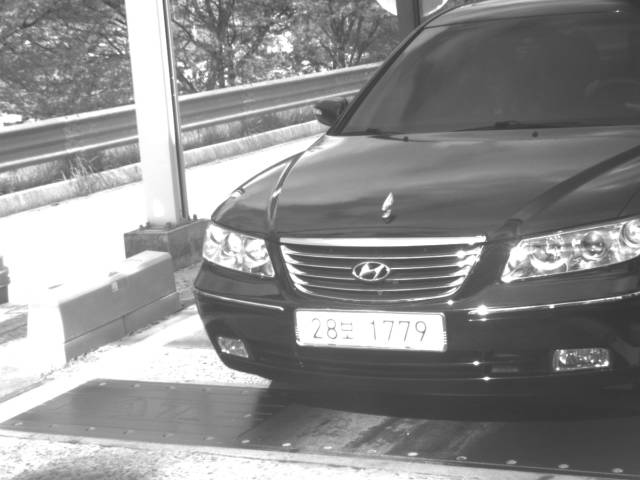car: (190, 1, 640, 397)
plate: (293, 308, 449, 352)
